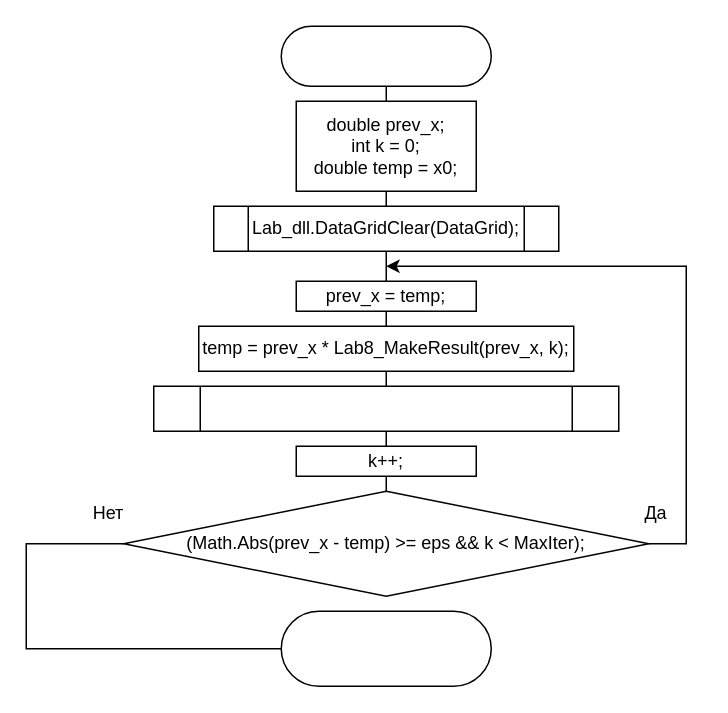
This 728x713 diagram has some shape labels left out. Here are the shapes that lost their labels. From the top down, the centre of each, then its label:
At [385,55]: "Начало Lab8_Result".
At [385,408]: "Lab_dll.Lab8_new_row(k+1, temp, DataGrid);".
At [385,648]: "Конец Lab8_Result".
